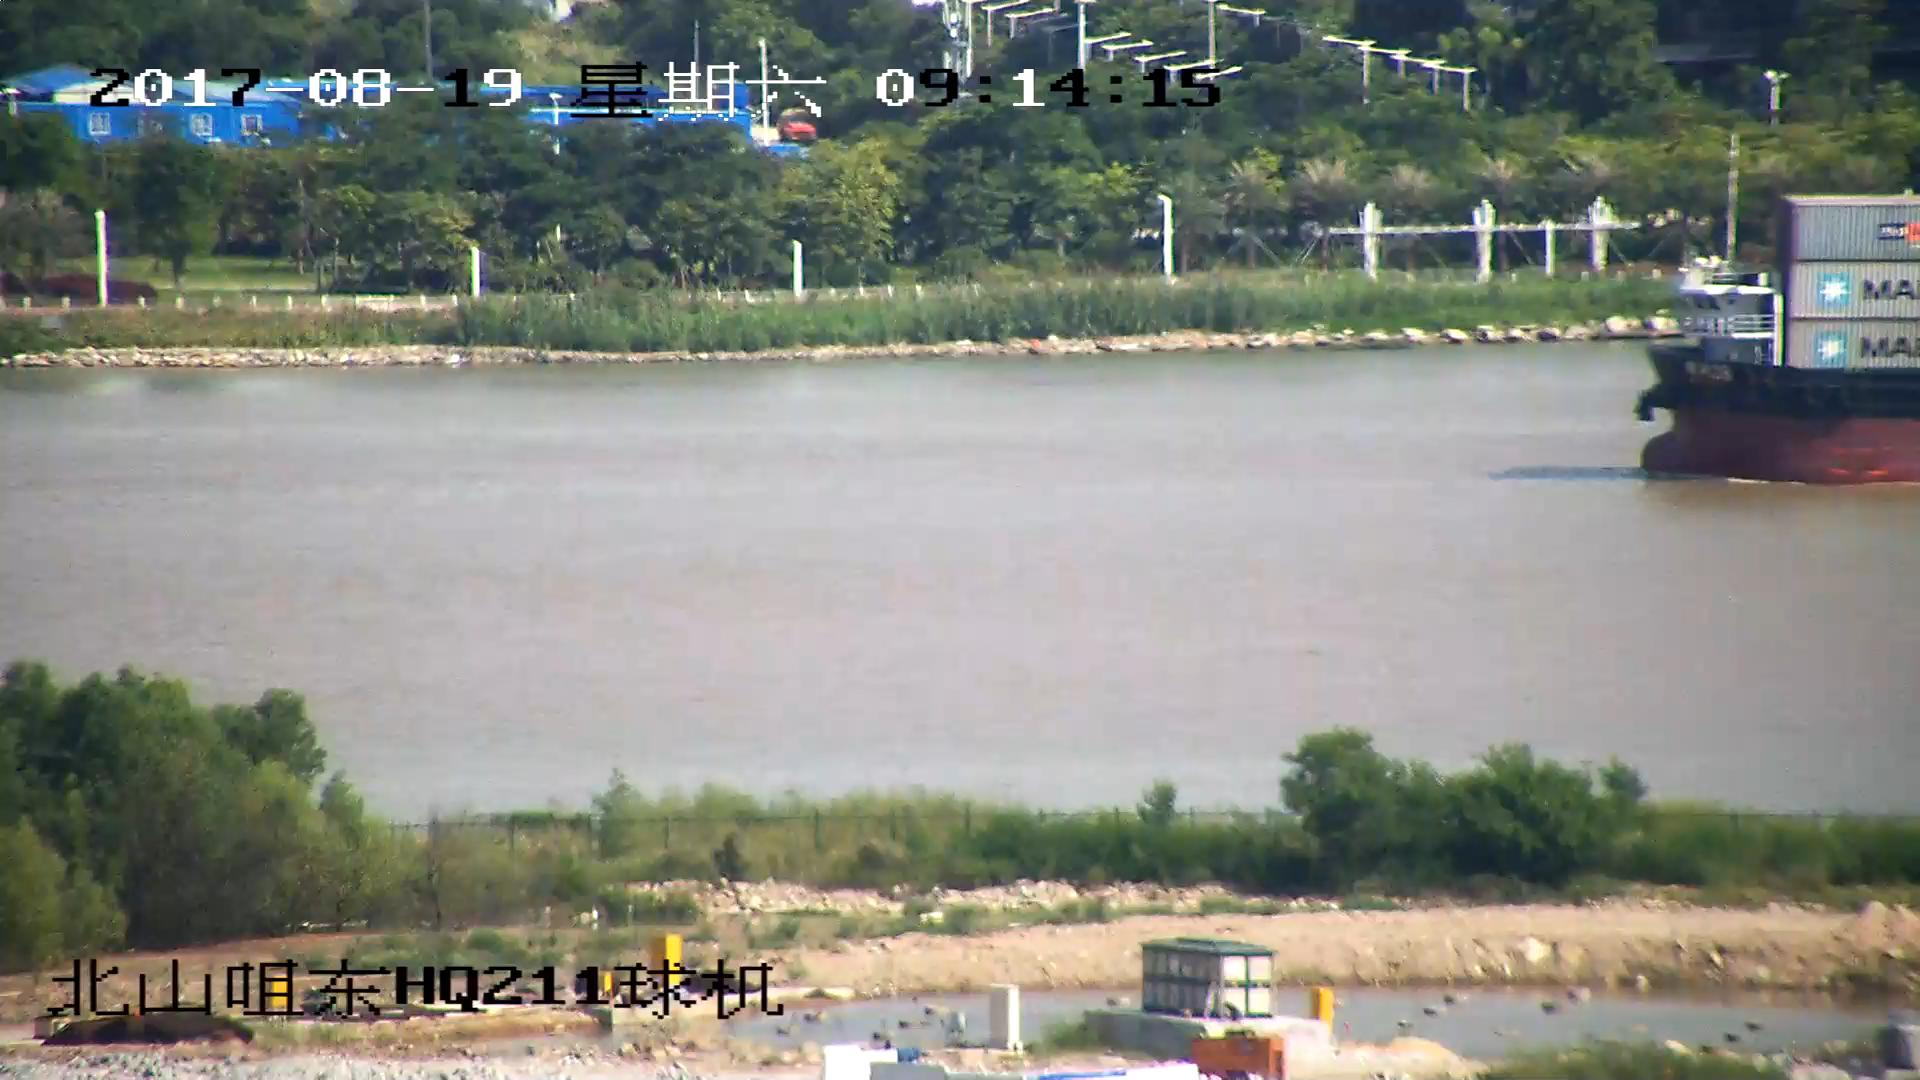container ship: (1636, 190, 1920, 484)
